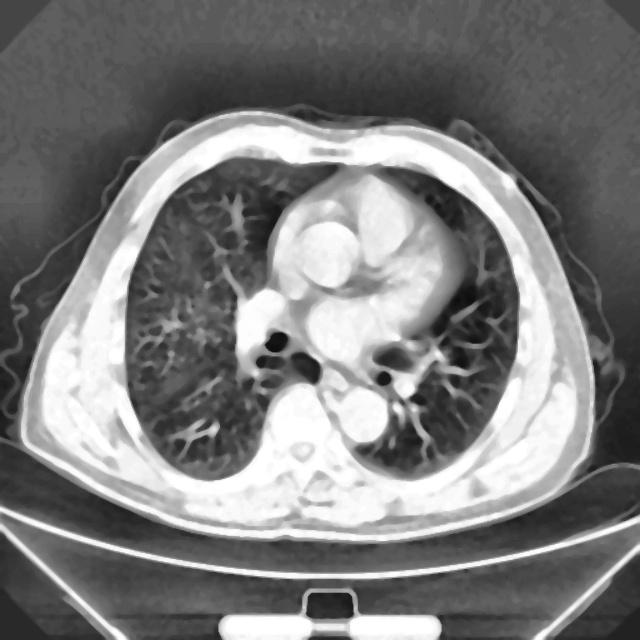covid: (16, 107, 601, 542)
